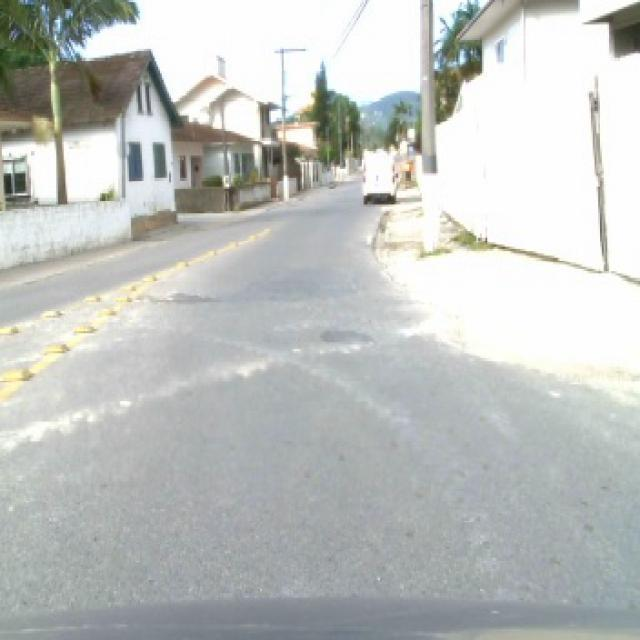Poth-hole: (0, 394, 131, 454), (131, 288, 224, 302), (232, 356, 268, 378), (0, 364, 33, 380), (42, 340, 67, 351), (70, 322, 94, 331), (94, 304, 114, 314), (42, 306, 62, 316), (0, 324, 18, 334), (113, 293, 131, 300), (82, 293, 100, 300), (173, 258, 189, 264), (204, 246, 216, 254), (122, 282, 134, 289), (142, 271, 154, 278), (227, 240, 238, 244)
